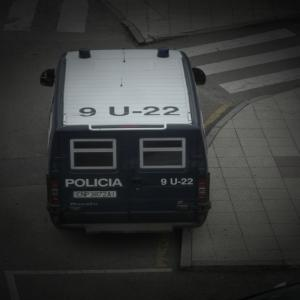Vehicle-registration-plate: (75, 192, 118, 199)
